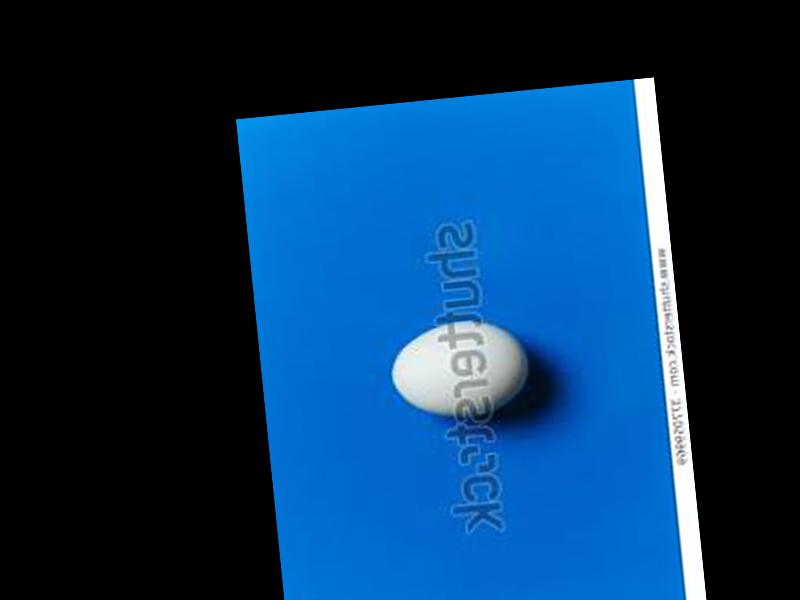Eggs: (383, 317, 532, 423)
